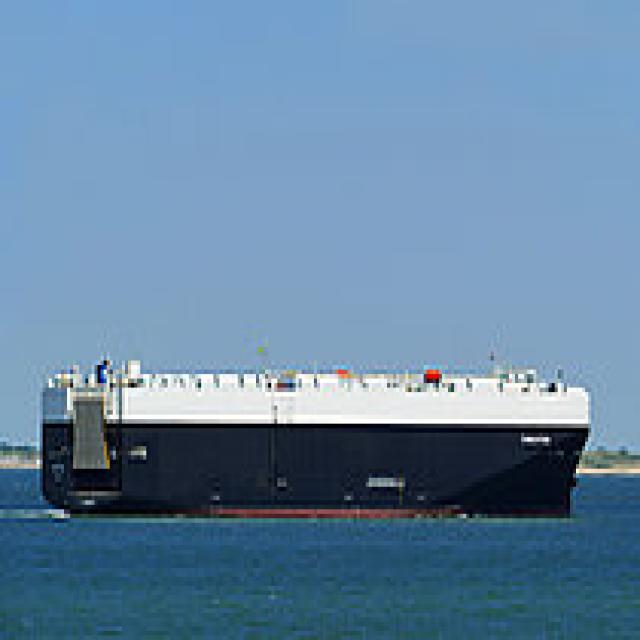Carrier: (34, 347, 591, 518)
